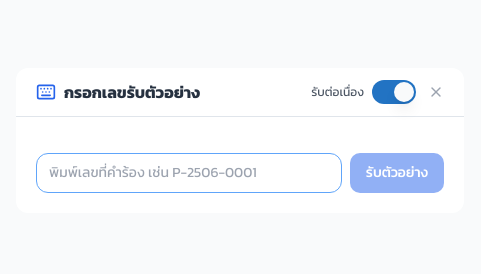
QrReceiveModal manualOnly mode › แสดงข้อความ error จาก backend เมื่อรับไม่ได้
Step 1. Type "P-2609-0003" into the field with placeholder "พิมพ์เลขที่คำร้อง เช่น P-2506-0001" → (189, 172), box 36,152 -> 342,192
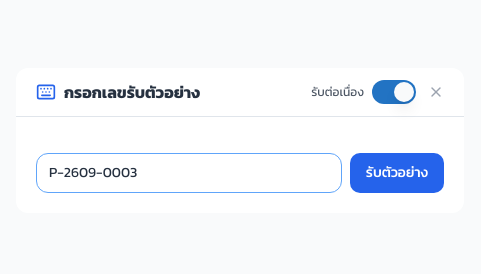
Step 2. Click the button "รับตัวอย่าง" → (397, 172), box 350,152 -> 444,192
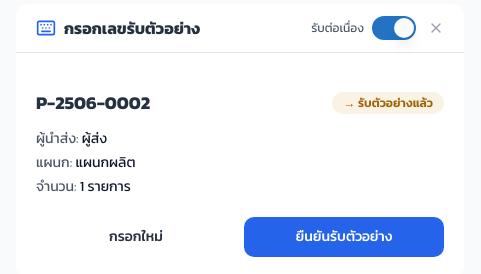
Step 3. Click the button "ยืนยันรับตัวอย่าง" → (344, 236), box 244,216 -> 444,256
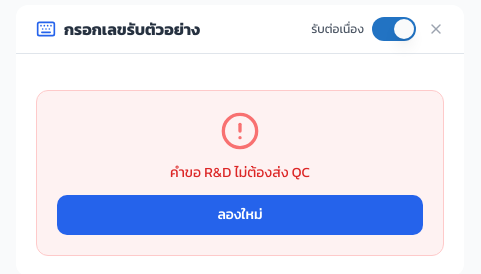
Now the text "คำขอ R&D ไม่ต้องส่ง QC" is shown, box 170,162 -> 310,182
